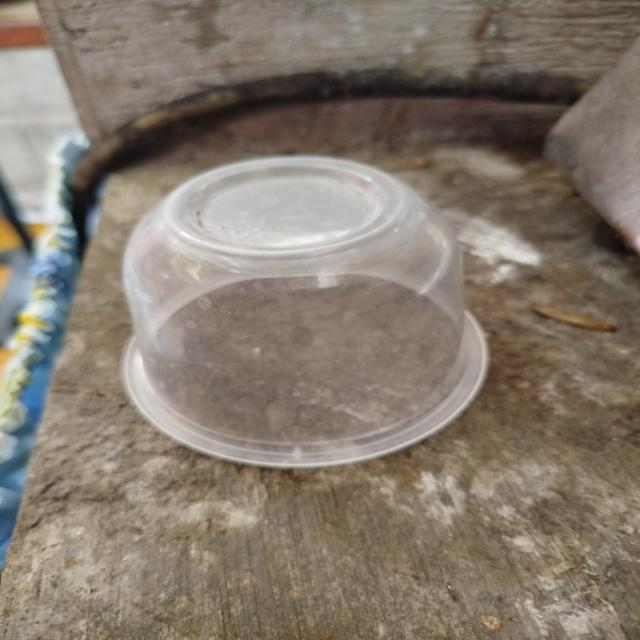plastic: (105, 138, 540, 479)
